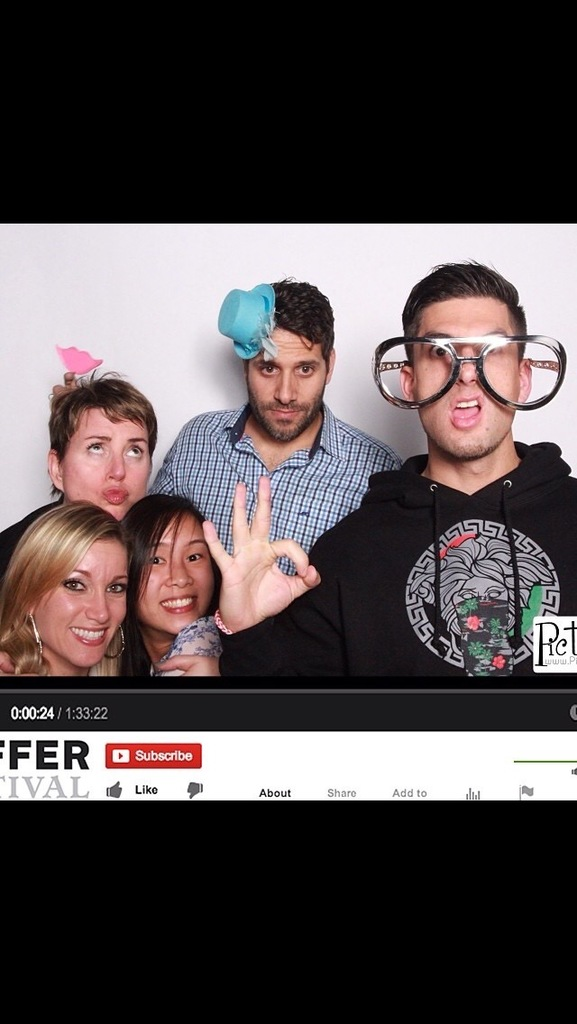Human_hand: (200, 475, 323, 638)
